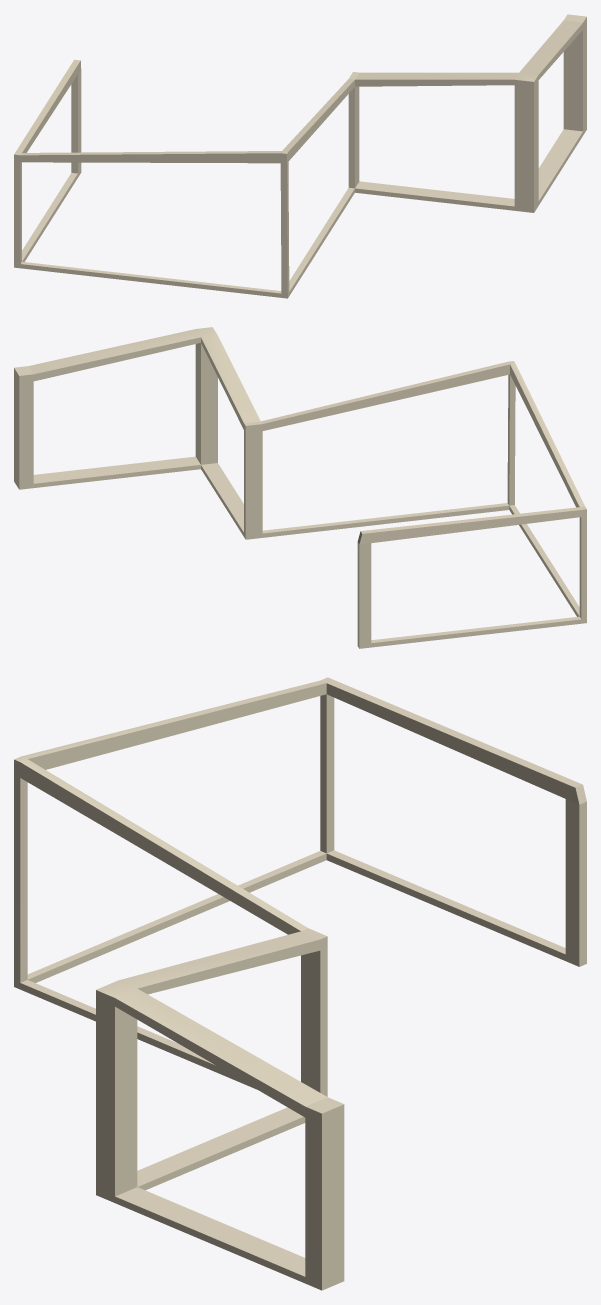
File: LobbyWindows.fbx
3 views of the same model, one above another, from view 1: azimuth 30°, elevation 25°; view 2: azimuth 150°, elevation 25°; view 3: azimuth 270°, elevation 25° (orthographic). The views are drawn at different scales.
Parts seen in each view (by area): view 1: Windows; view 2: Windows; view 3: Windows.
Part boxes in pixels (left/top/right/bottom): Windows: left=14, top=14, right=586, bottom=298; Windows: left=14, top=327, right=586, bottom=648; Windows: left=14, top=677, right=586, bottom=1290.
Bounding box in the file's own units: 393 × 95.19 × 218.
